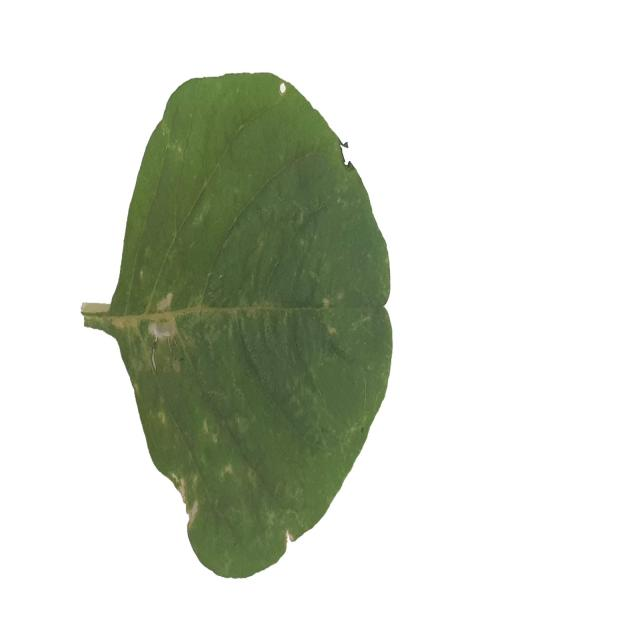Medicinal-Arive Dantu: (86, 66, 388, 580)
